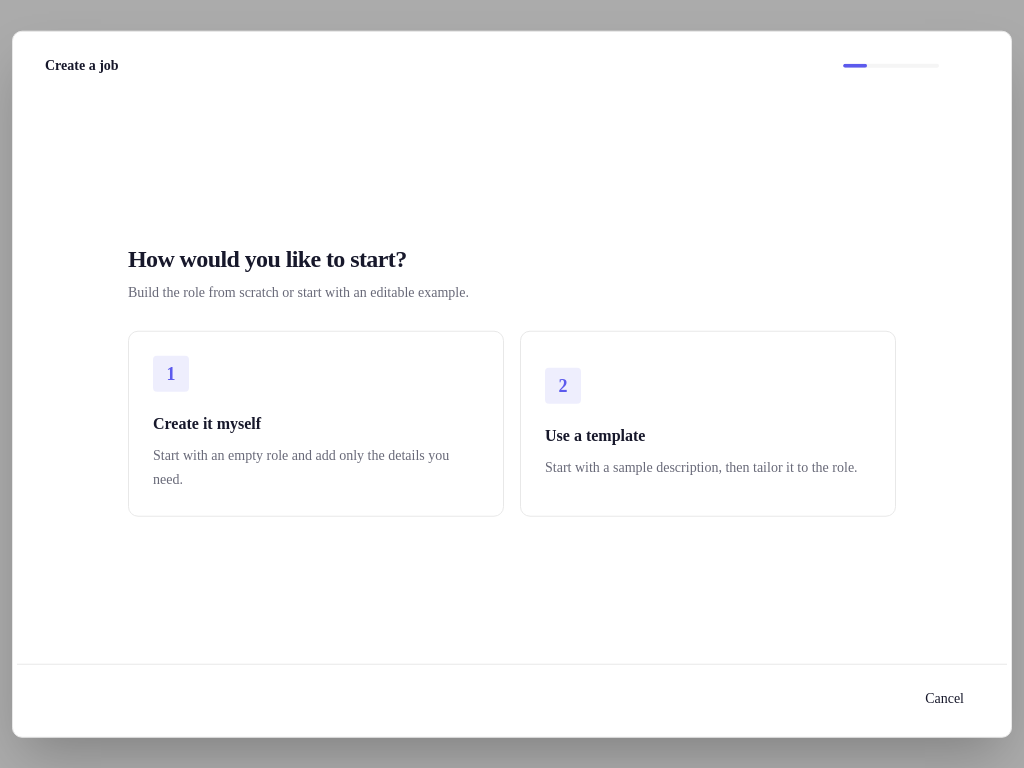
preserves the form and shows an actionable error when saving fails
Click the button "Create it myself" at (171, 373), box [128,330,504,516]
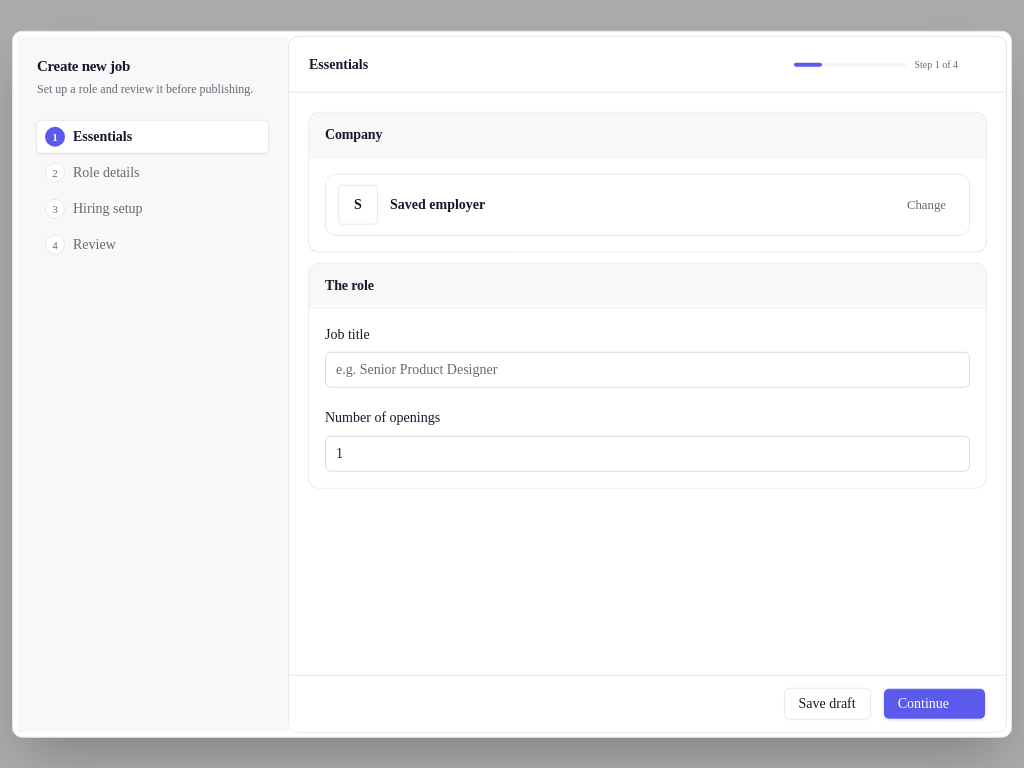
Type "Unsent role" into the field labelled "Job title" at (648, 370), box [325,352,970,388]
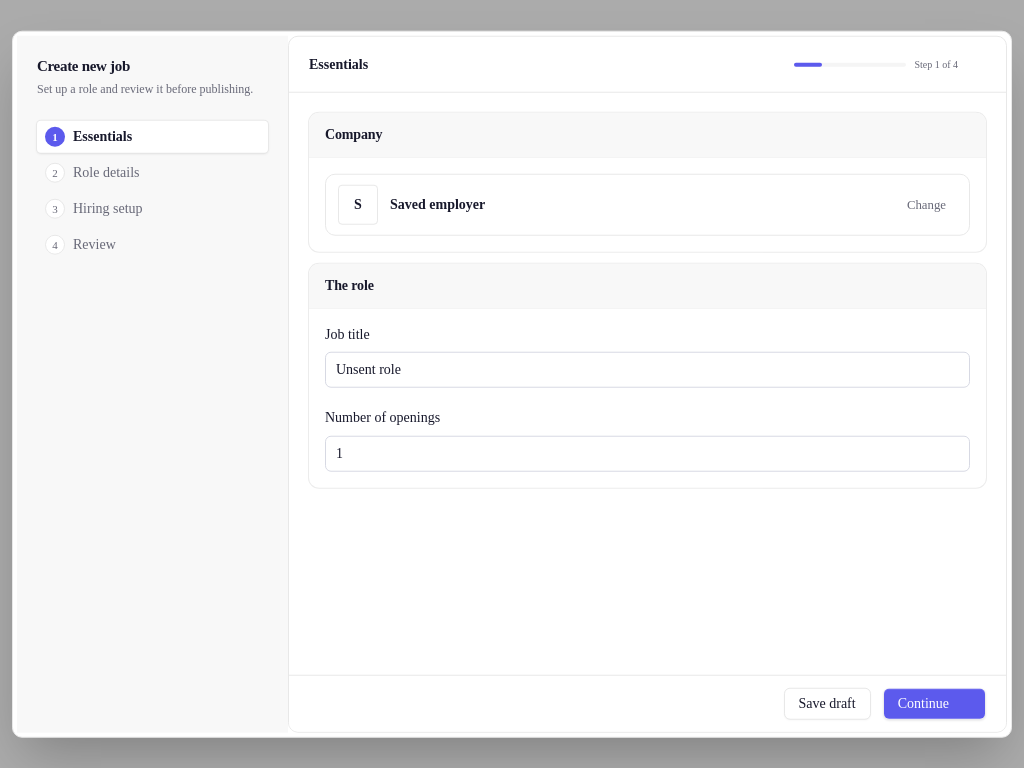
Click the button "Save draft" at (827, 703), box [784,687,871,719]
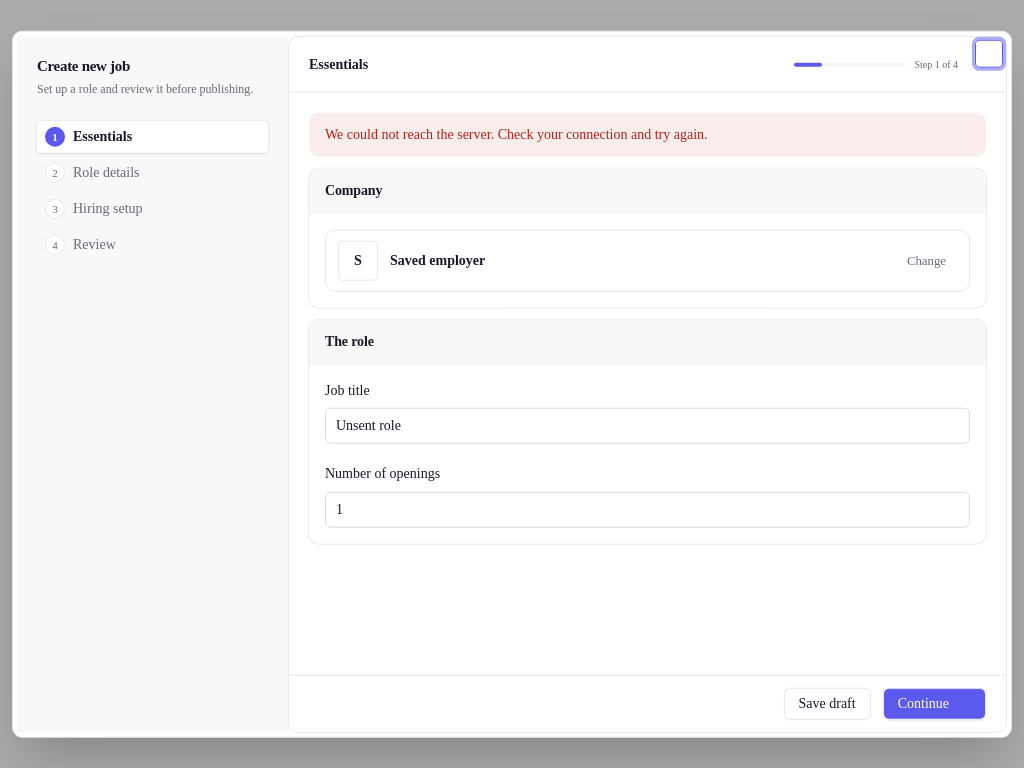
Expected: the text "We could not reach the server. Check your connection and try again." is shown, [309,113,986,157]
